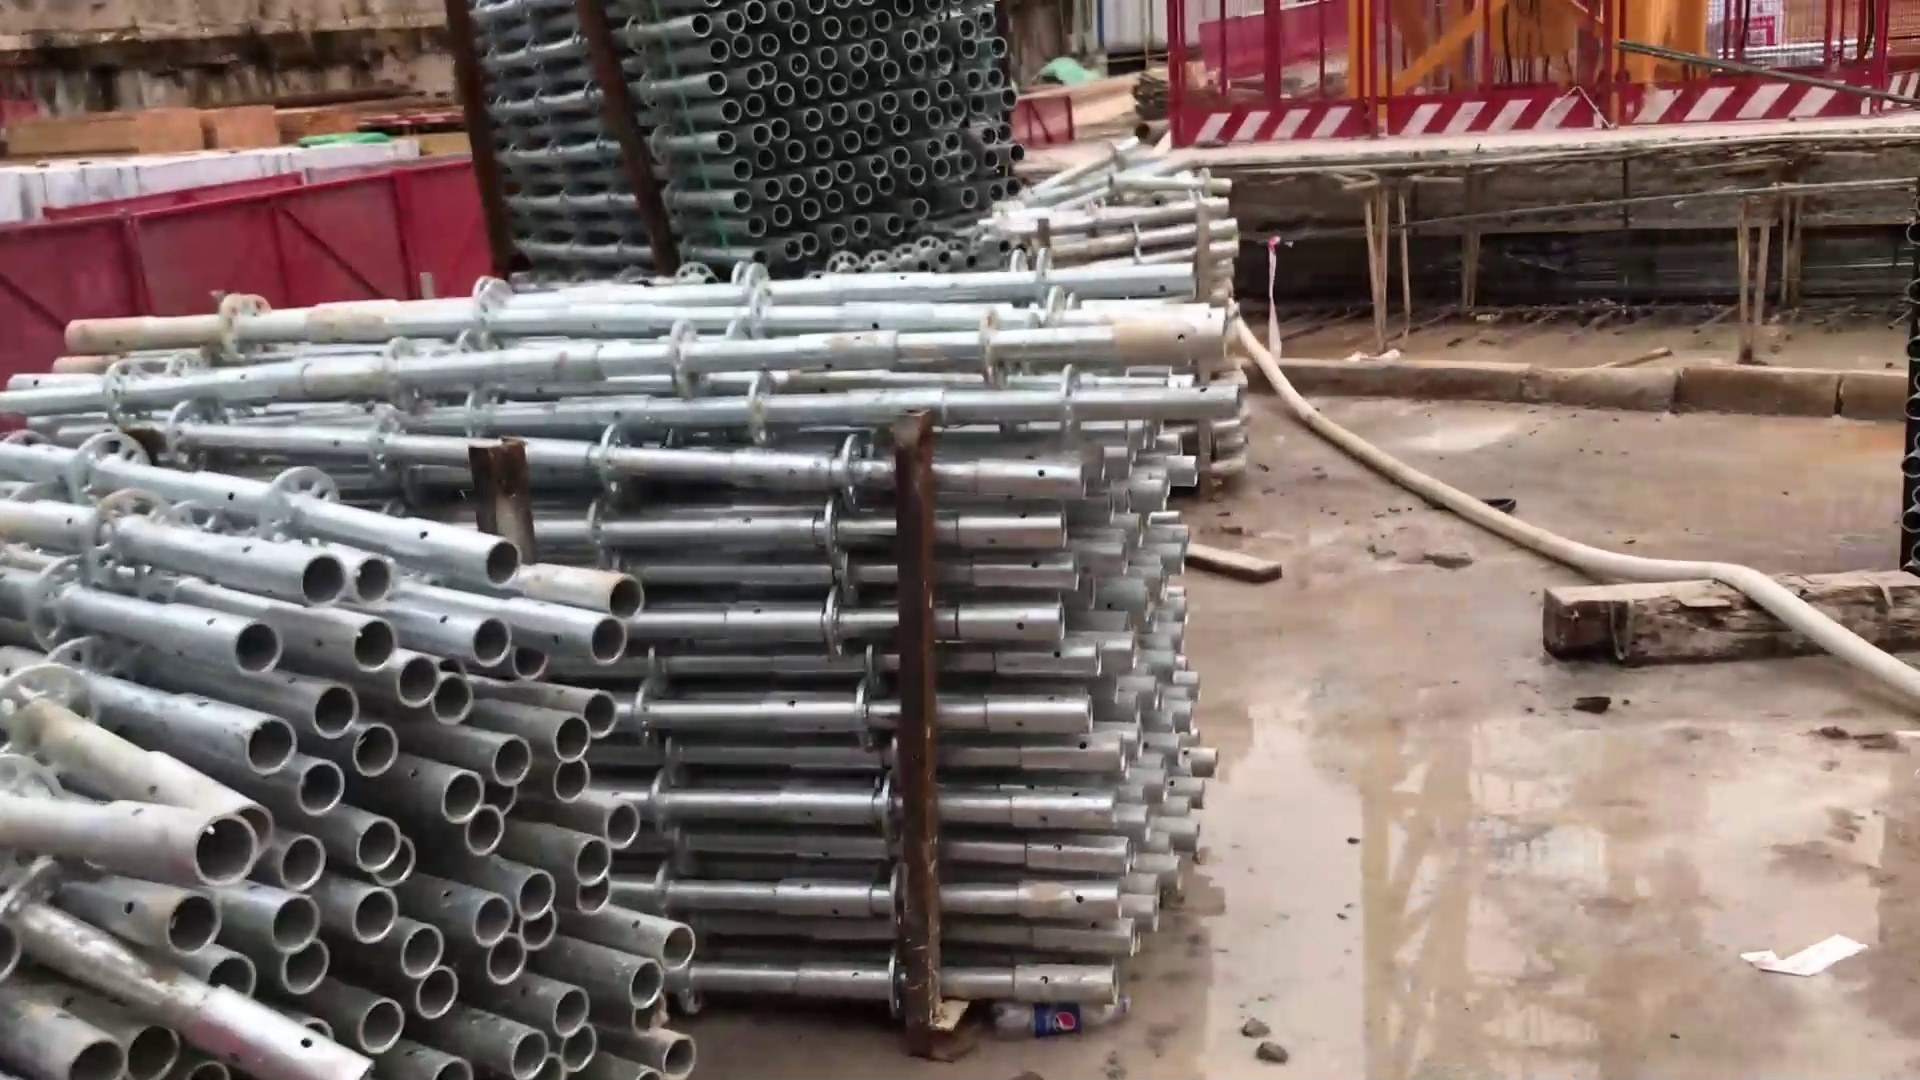scaffold: (1, 260, 1237, 1072), (467, 1, 1027, 276)
wood: (11, 102, 297, 167)
